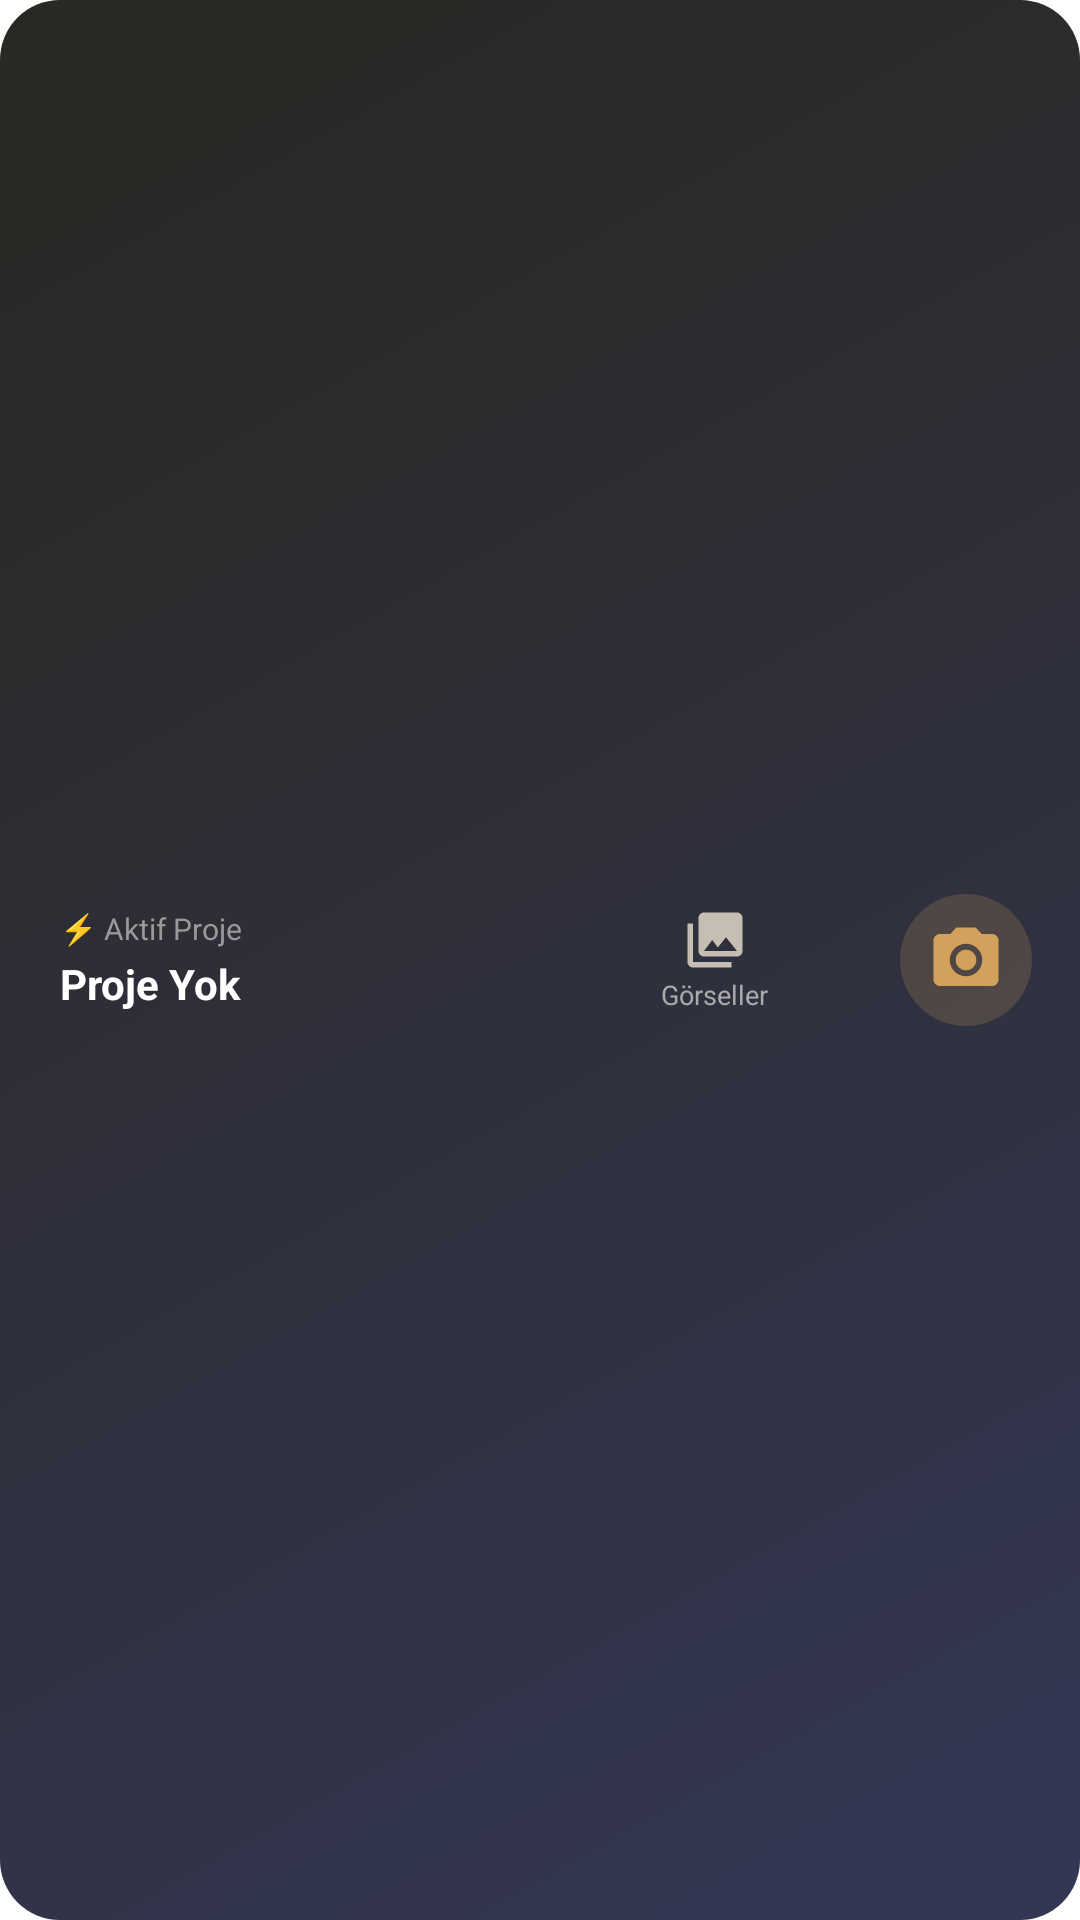

Icon click points for this 1080 x 1920 phone screenshot, format [x,y]:
Kamera: [966,956]
